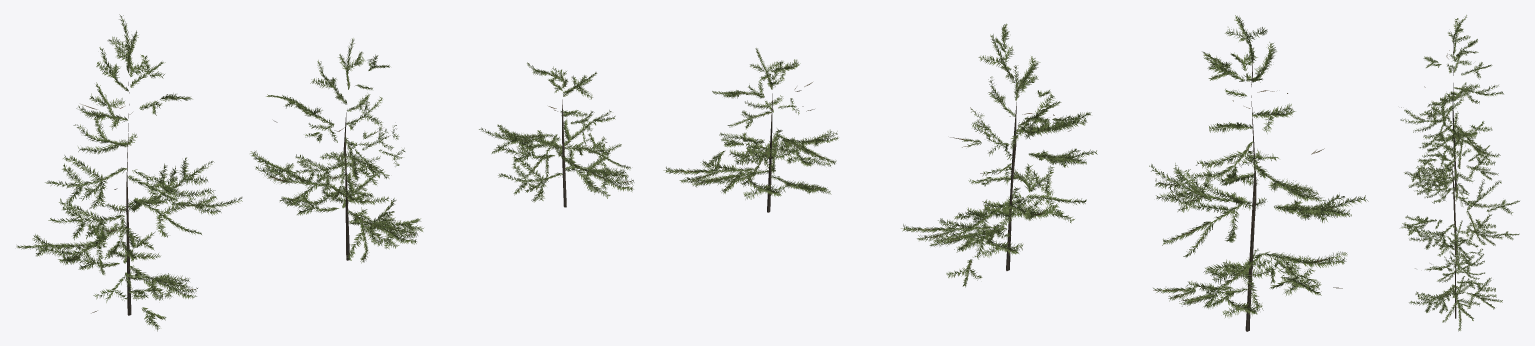
Rendered from fir_sapling_lod.glb.
3 views of the same model, side by side, from view 1: azimuth 30°, elevation 25°; view 2: azimuth 150°, elevation 25°; view 3: azimuth 270°, elevation 25° (orthographic). The views are drawn at different scales.
Parts seen in each view (by area): view 1: fir_sapling_a, fir_sapling_b, fir_sapling_c; view 2: fir_sapling_a, fir_sapling_b, fir_sapling_c; view 3: fir_sapling_a, fir_sapling_b, fir_sapling_c.
Boxes of the visible parts, x1,y1,x2,y2 form: fir_sapling_a: (16,14,242,331); fir_sapling_b: (250,38,423,263); fir_sapling_c: (479,62,634,207); fir_sapling_a: (1149,15,1368,331); fir_sapling_b: (901,23,1097,287); fir_sapling_c: (663,48,838,212); fir_sapling_a: (1400,15,1503,201); fir_sapling_b: (1401,125,1519,268); fir_sapling_c: (1409,220,1502,331).
Bounding box in the file's own units: 2.73 × 1.29 × 0.818.
Materials: 2 (2 with a texture image).
